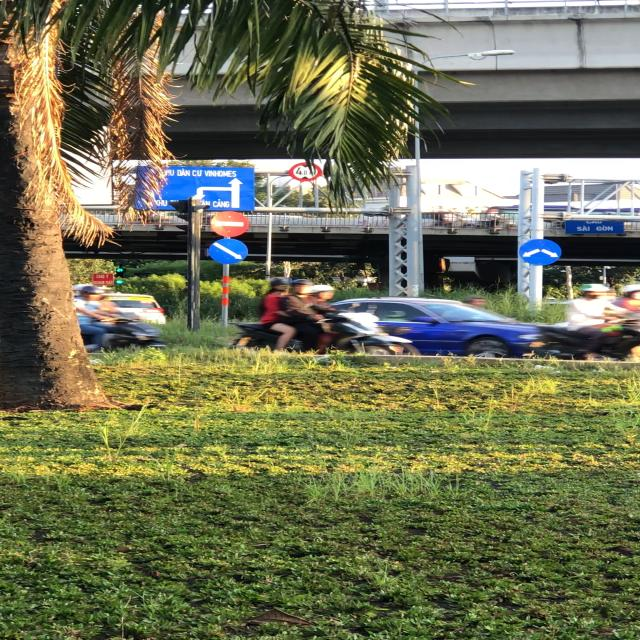Bien bao cam di nguoc chieu: (205, 207, 254, 237)
Bien bao han che chieu cao: (289, 161, 323, 182)
Bien bao huong phai di vong chuong ngai vat: (514, 236, 564, 267), (208, 238, 252, 266)
